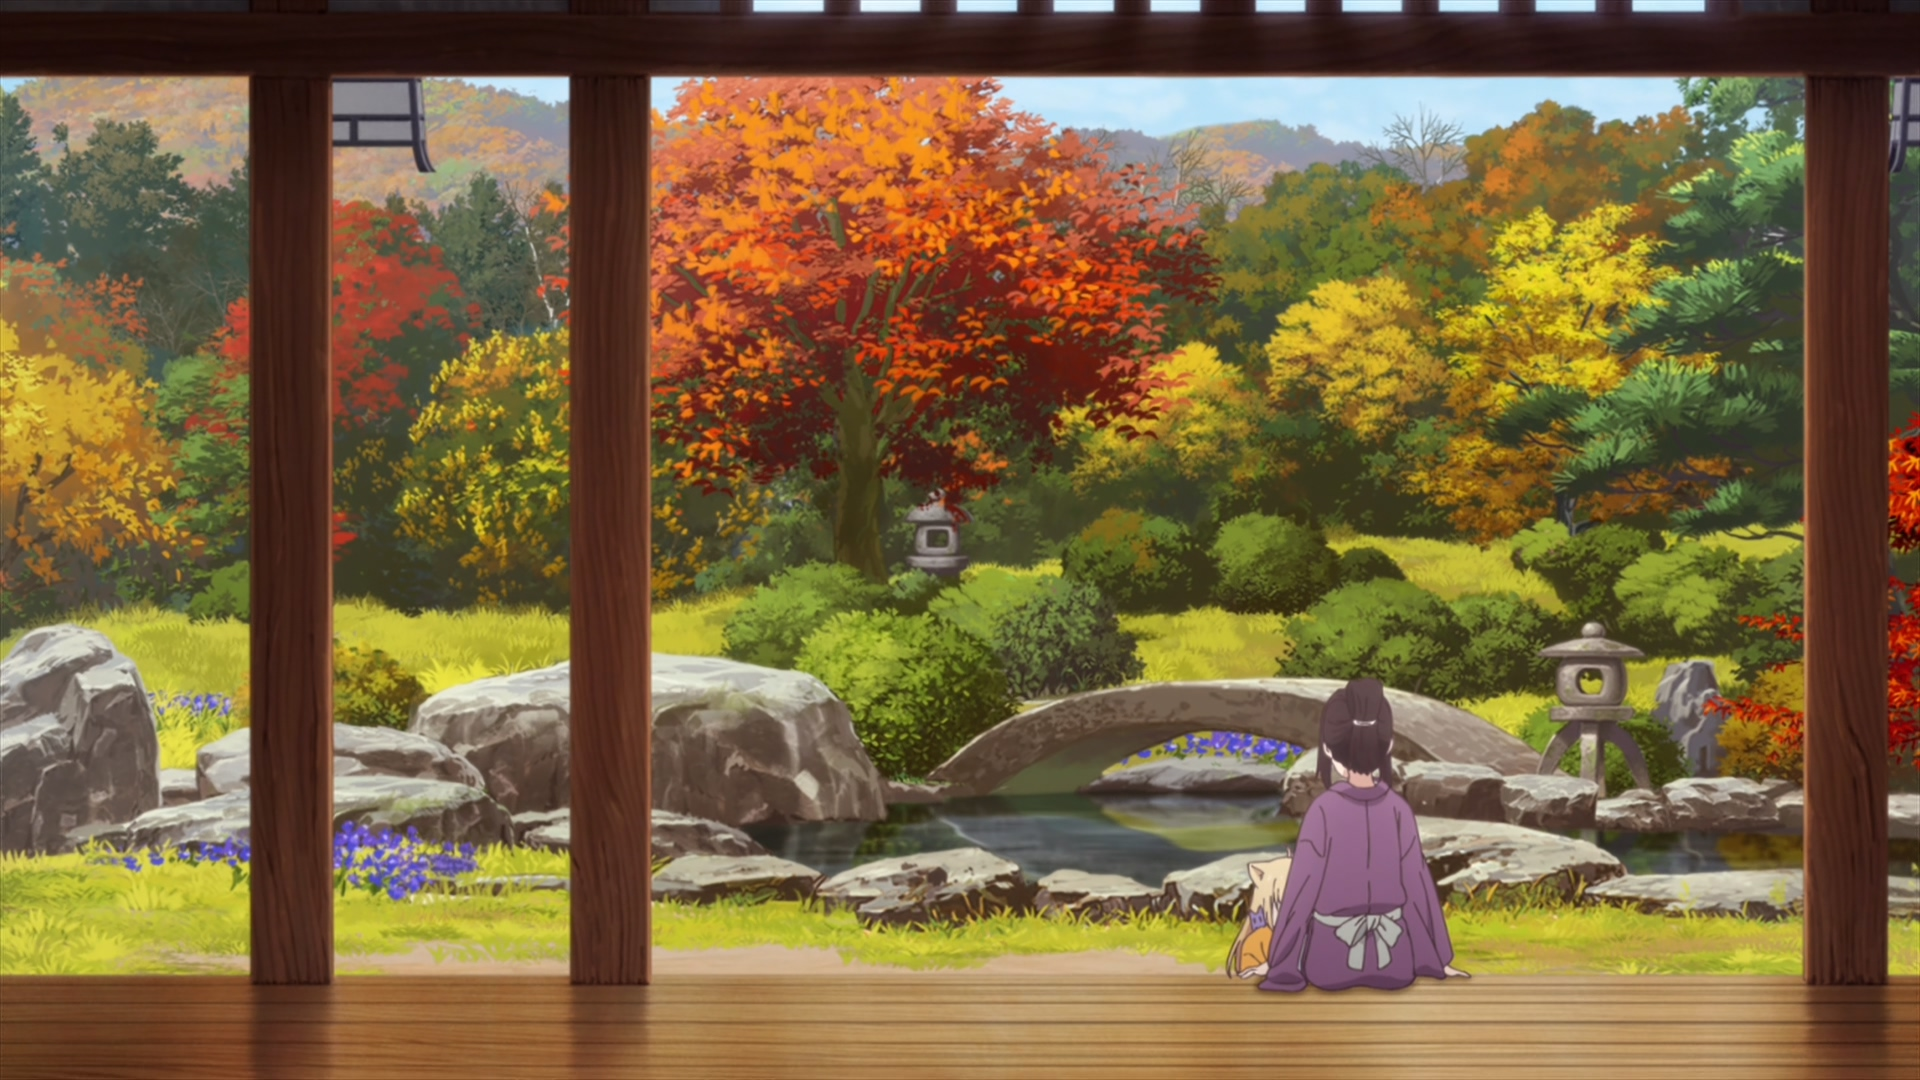其他: (1259, 674, 1474, 997)
柚: (1226, 848, 1290, 975)
